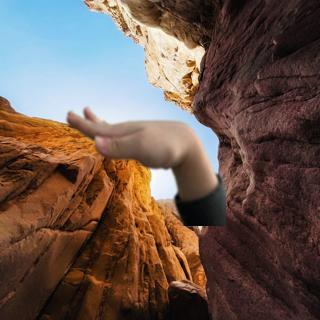Wait: (54, 97, 208, 179)
